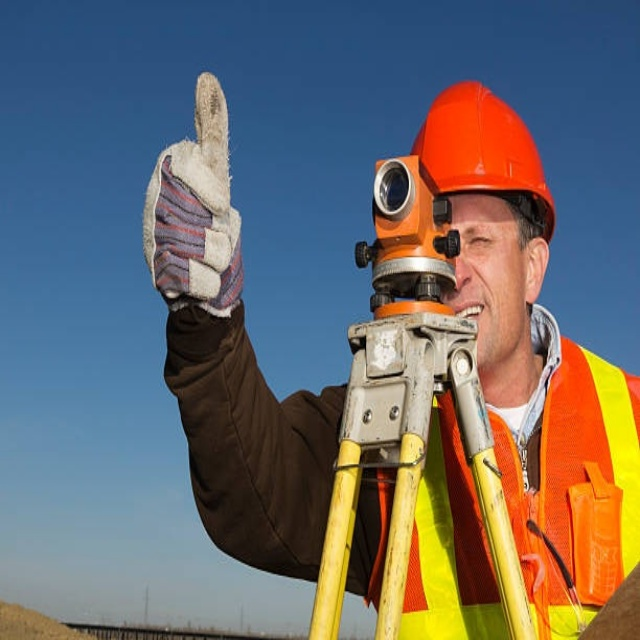Guantes: (142, 71, 243, 313)
Sin_gafas: (461, 210, 510, 259)
Sin_mascara: (452, 301, 485, 326)
